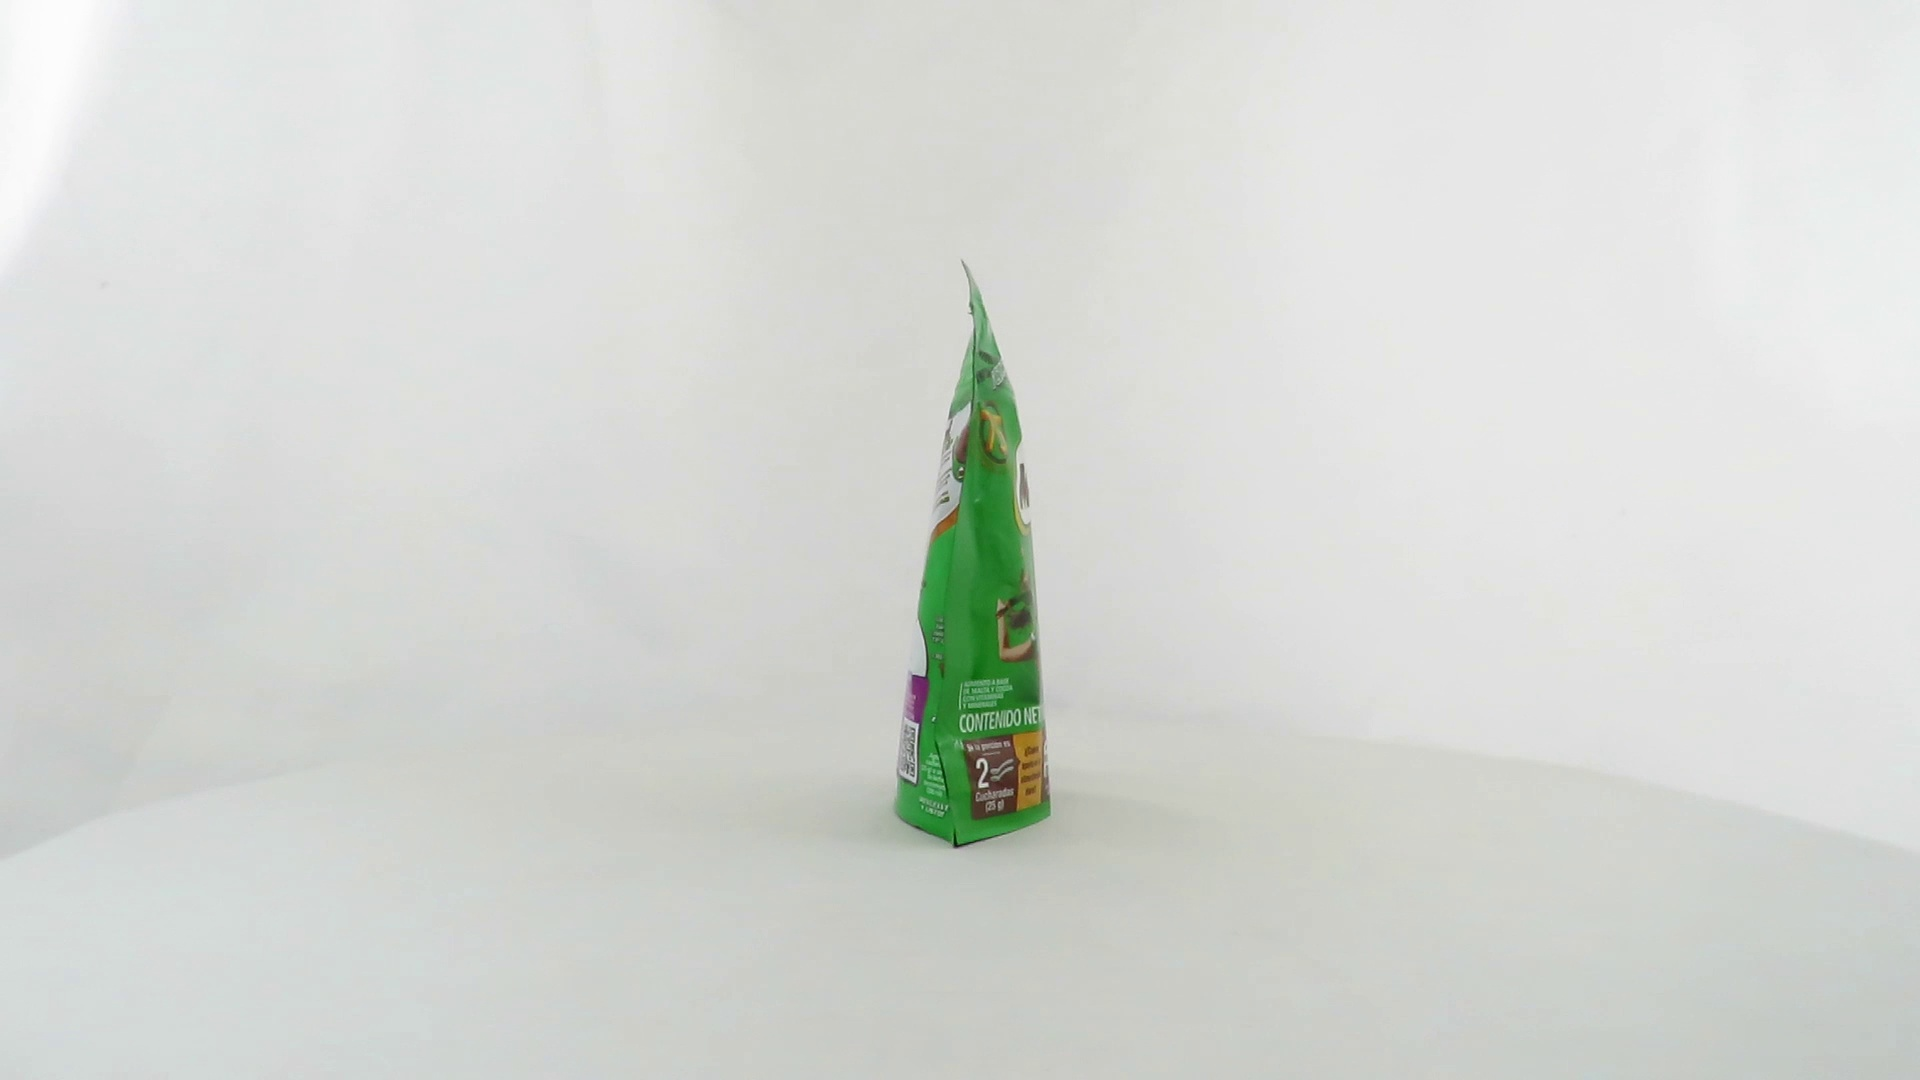COL0170203DYP10000: (889, 255, 1058, 855)
